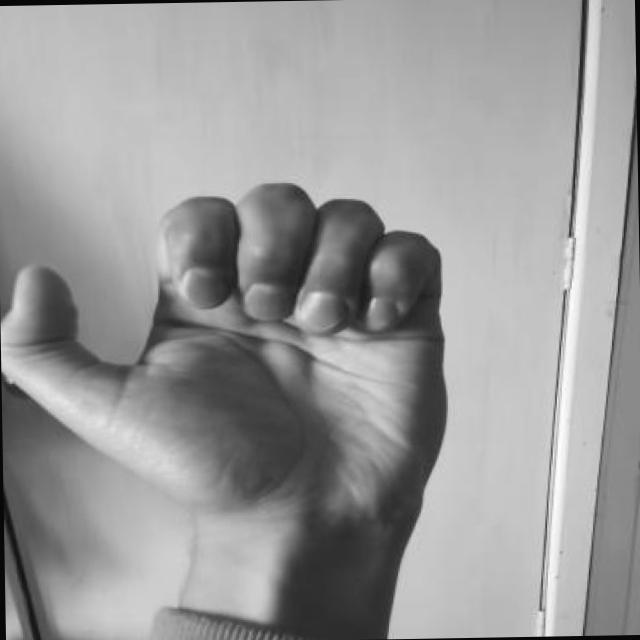E: (0, 147, 486, 546)
